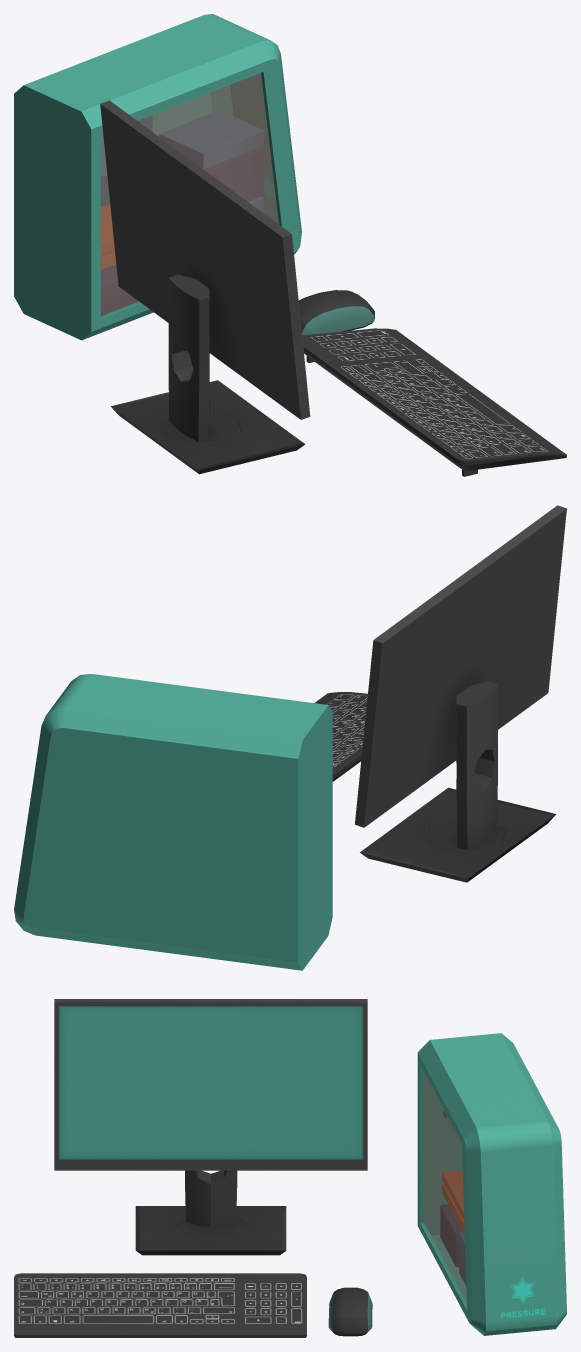
3 views of the same model, one above another, from view 1: azimuth 30°, elevation 25°; view 2: azimuth 150°, elevation 25°; view 3: azimuth 270°, elevation 25° (orthographic). The views are drawn at different scales.
Parts seen in each view (by area): view 1: case_geo, screen_geo, keyBoard_geo, mouse_geo; view 2: case_geo, screen_geo, keyBoard_geo; view 3: screen_geo, case_geo, keyBoard_geo, mouse_geo.
Boxes of the visible parts, x1,y1,x2,y2 form: case_geo: (14, 14, 301, 340); screen_geo: (100, 100, 310, 474); keyBoard_geo: (302, 328, 566, 476); mouse_geo: (298, 290, 374, 335); case_geo: (14, 674, 332, 970); screen_geo: (355, 505, 566, 882); keyBoard_geo: (314, 692, 367, 781); screen_geo: (54, 999, 367, 1255); case_geo: (417, 1033, 566, 1335); keyBoard_geo: (14, 1273, 306, 1337); mouse_geo: (328, 1287, 372, 1336).
Size of the model in its own units: 15.53 by 12.96 by 28.16.
Materials: 3 (2 with a texture image).
